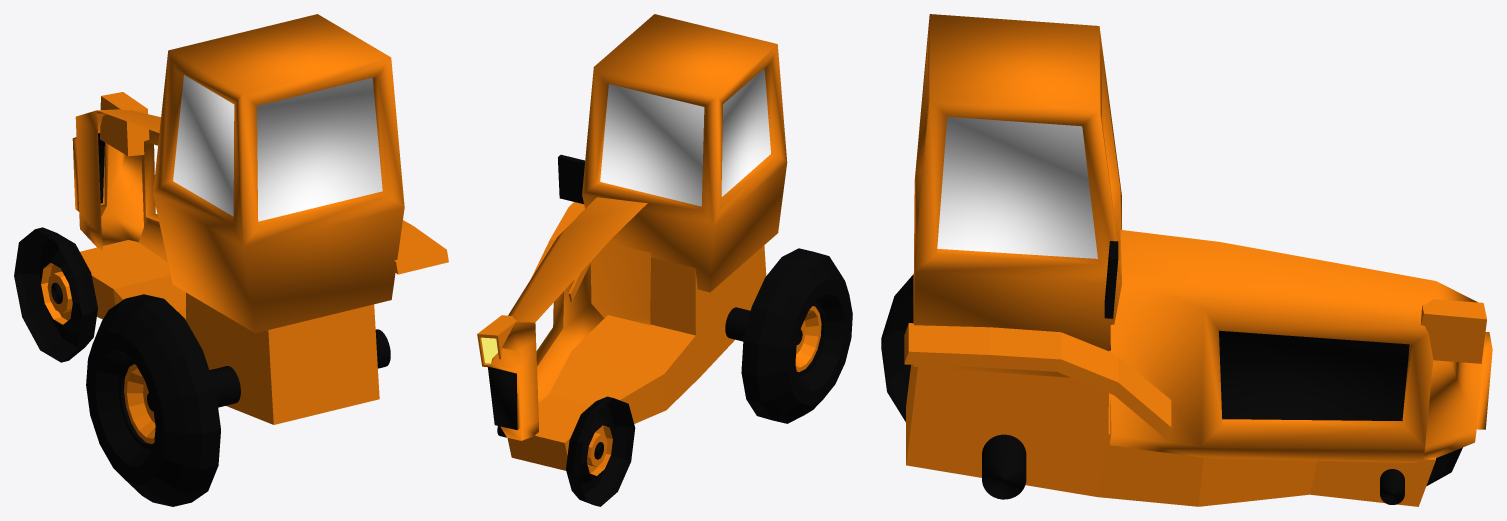
Rendered from tractor.glb.
3 views of the same model, side by side, from view 1: azimuth 30°, elevation 25°; view 2: azimuth 150°, elevation 25°; view 3: azimuth 270°, elevation 25° (orthographic). The views are drawn at different scales.
Parts seen in each view (by area): view 1: Cabina, Ruedas Grandes, Chasis, Motor, Ruedas Pequenas, Luces, Faldones, Direccion Delantera; view 2: Cabina, Chasis, Motor, Ruedas Grandes, Ruedas Pequenas, Luces, Retrovisores, Faldones, Direccion Delantera; view 3: Motor, Cabina, Chasis, Faldones, Luces, Ruedas Grandes, Direccion Delantera, Retrovisores, Direccion Trasera.
Boxes of the visible parts, box(x1,y1,x2,y2) form: Cabina: box(153, 14, 404, 333); Ruedas Grandes: box(86, 294, 220, 506); Chasis: box(80, 240, 379, 424); Motor: box(72, 109, 167, 262); Ruedas Pequenas: box(14, 227, 97, 362); Luces: box(100, 92, 149, 156); Faldones: box(394, 220, 448, 274); Direccion Delantera: box(209, 329, 390, 407); Cabina: box(582, 14, 787, 292); Chasis: box(507, 245, 766, 470); Motor: box(487, 197, 650, 440); Ruedas Grandes: box(741, 248, 852, 423); Ruedas Pequenas: box(566, 396, 635, 506); Luces: box(477, 315, 516, 367); Retrovisores: box(558, 154, 584, 204); Faldones: box(531, 202, 591, 301); Direccion Delantera: box(725, 307, 750, 341); Motor: box(1109, 230, 1492, 462); Cabina: box(913, 14, 1121, 377); Chasis: box(906, 364, 1435, 506); Faldones: box(904, 323, 1171, 439); Luces: box(1420, 299, 1486, 363); Ruedas Grandes: box(881, 274, 1110, 421); Direccion Delantera: box(982, 434, 1026, 499); Retrovisores: box(1104, 241, 1118, 318); Direccion Trasera: box(1380, 469, 1404, 504).
Size of the model in its own units: 3.41 by 4.79 by 5.55.
